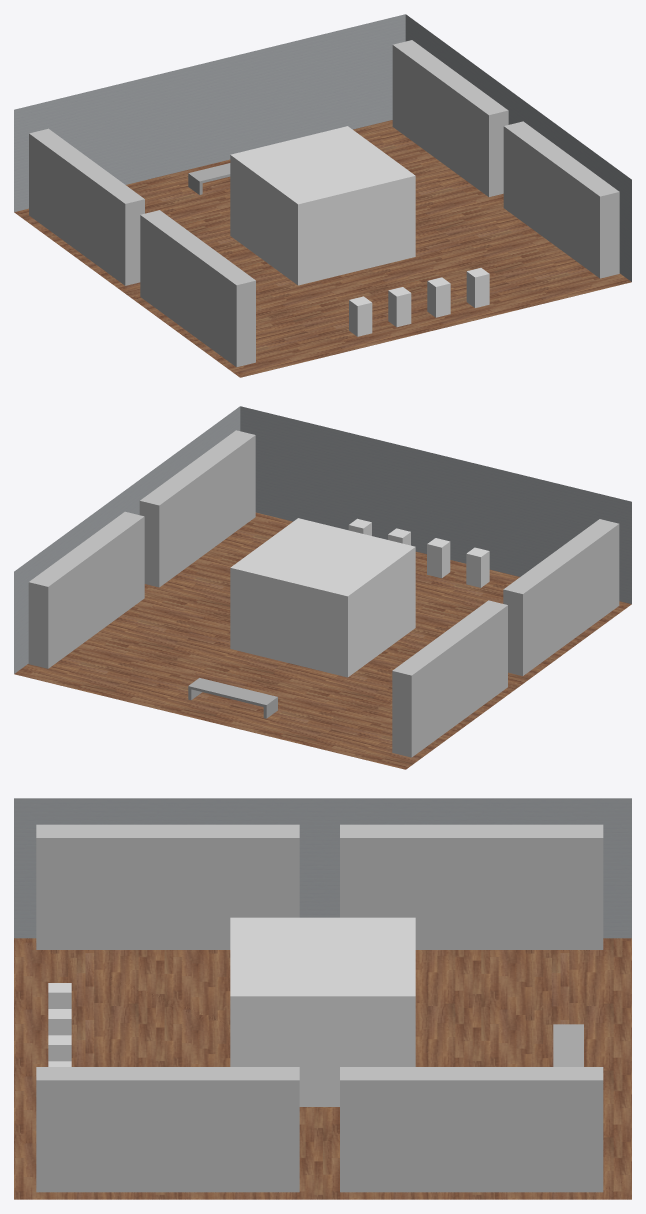
File: vr_art_gallery_2023.glb
3 views of the same model, one above another, from view 1: azimuth 30°, elevation 25°; view 2: azimuth 150°, elevation 25°; view 3: azimuth 270°, elevation 25° (orthographic). The views are drawn at different scales.
Visible parts, largest first — view 1: Main_27, Main.002_30, Box_28, FrameWall_18, FrameWall.002_20, FrameWall.001_19, FrameWall.003_21, BustStand.002_25, BustStand.001_24, BustStand.003_26, BustStand_23, Bench.001_22; view 2: Main.002_30, Main_27, Box_28, FrameWall.001_19, FrameWall.003_21, FrameWall_18, FrameWall.002_20, Bench.001_22, BustStand_23, BustStand.001_24; view 3: Main.002_30, FrameWall_18, FrameWall.001_19, FrameWall.002_20, FrameWall.003_21, Box_28, Main_27, Bench.001_22, BustStand.001_24, BustStand.002_25, BustStand_23.
Part boxes in pixels (left/top/right/bottom): Main_27: left=14, top=14, right=631, bottom=281; Main.002_30: left=14, top=120, right=631, bottom=377; Box_28: left=230, top=126, right=415, bottom=285; FrameWall_18: left=503, top=121, right=619, bottom=278; FrameWall.002_20: left=140, top=210, right=255, bottom=367; FrameWall.001_19: left=392, top=40, right=508, bottom=196; FrameWall.003_21: left=29, top=128, right=144, bottom=285; BustStand.002_25: left=427, top=277, right=450, bottom=317; BustStand.001_24: left=388, top=287, right=411, bottom=327; BustStand.003_26: left=466, top=268, right=489, bottom=307; BustStand_23: left=349, top=296, right=372, bottom=336; Bench.001_22: left=188, top=163, right=230, bottom=194; Main.002_30: left=14, top=512, right=631, bottom=769; Main_27: left=14, top=406, right=631, bottom=673; Box_28: left=230, top=518, right=415, bottom=677; FrameWall.001_19: left=28, top=511, right=144, bottom=668; FrameWall.003_21: left=392, top=600, right=507, bottom=757; FrameWall_18: left=139, top=430, right=255, bottom=587; FrameWall.002_20: left=503, top=519, right=619, bottom=675; Bench.001_22: left=188, top=678, right=277, bottom=718; BustStand_23: left=466, top=547, right=489, bottom=587; BustStand.001_24: left=427, top=538, right=450, bottom=578; Main.002_30: left=14, top=938, right=631, bottom=1199; FrameWall_18: left=36, top=1067, right=299, bottom=1192; FrameWall.001_19: left=340, top=1067, right=603, bottom=1192; FrameWall.002_20: left=36, top=824, right=299, bottom=949; FrameWall.003_21: left=340, top=824, right=603, bottom=949; Box_28: left=230, top=917, right=415, bottom=1106; Main_27: left=14, top=798, right=631, bottom=938; Bench.001_22: left=553, top=1024, right=583, bottom=1066; BustStand.001_24: left=48, top=1009, right=71, bottom=1035; BustStand.002_25: left=48, top=1035, right=71, bottom=1061; BustStand_23: left=48, top=983, right=71, bottom=1008.
Bounding box in the file's own units: 20 × 5.04 × 20.
6 materials, 2 textured.
